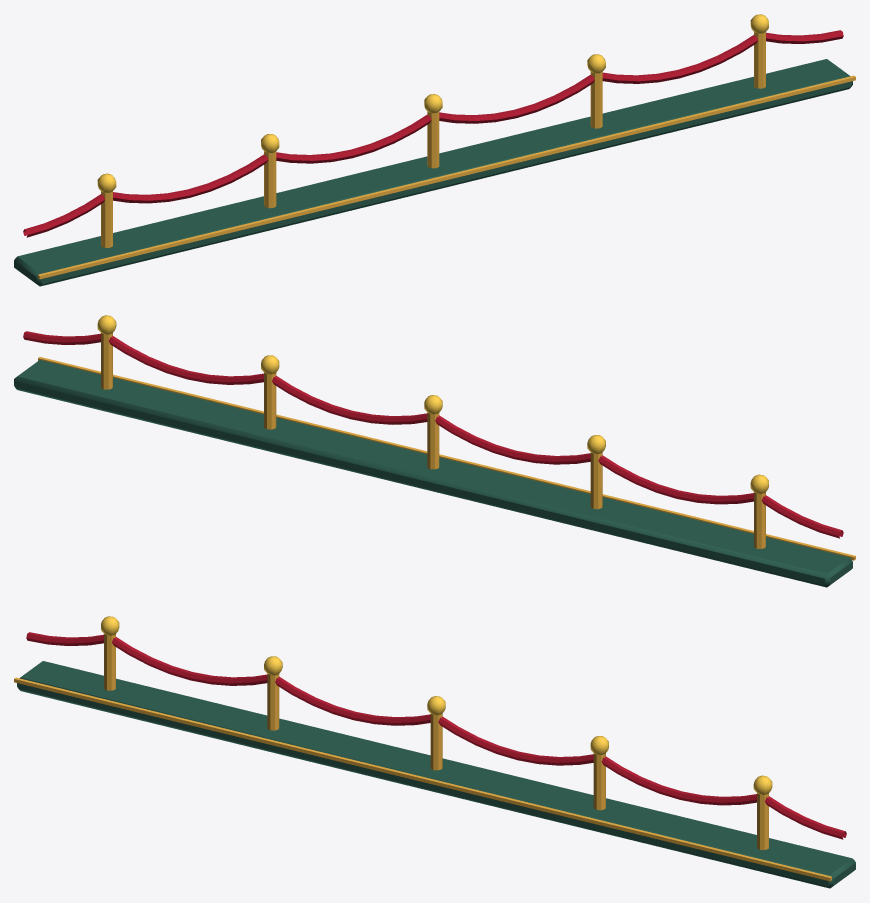
Rendered from ex_frame.glb.
The picture shows the model from 3 angles, top to bottom: view 1: azimuth 30°, elevation 25°; view 2: azimuth 150°, elevation 25°; view 3: azimuth 330°, elevation 25°; orthographic projection.
Visible parts, largest first — view 1: ex_frame; view 2: ex_frame; view 3: ex_frame.
Boxes of the visible parts, left/top/right/bottom form: ex_frame: left=14, top=14, right=855, bottom=286; ex_frame: left=14, top=315, right=855, bottom=587; ex_frame: left=14, top=616, right=855, bottom=888.
Bounding box in the file's own units: 7.5 × 0.745 × 0.44.
Materials: 1 (1 with a texture image).
